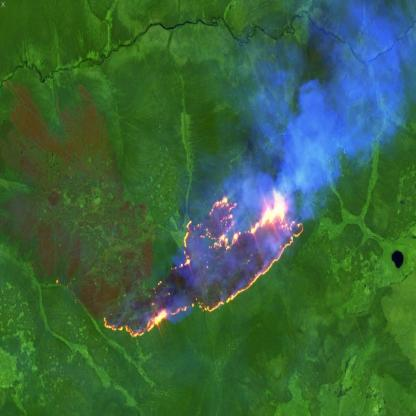fire: (102, 174, 309, 345)
